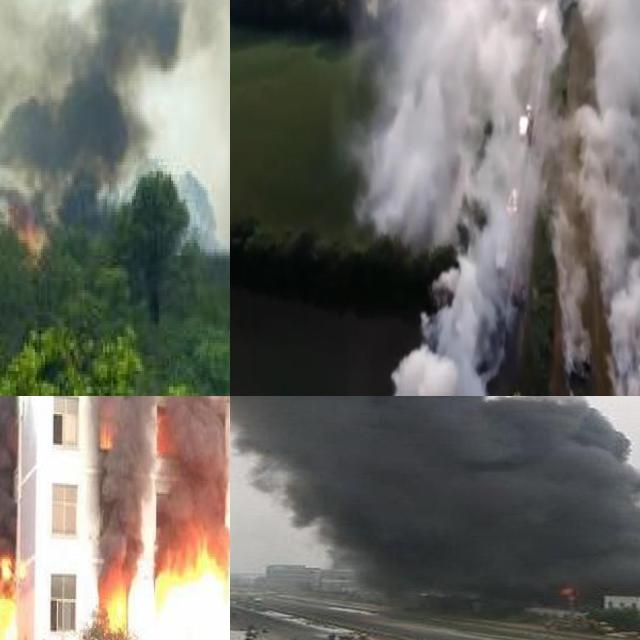fire: (130, 528, 230, 640), (0, 544, 22, 640), (102, 561, 128, 635), (8, 202, 45, 252), (98, 419, 115, 448), (561, 586, 583, 602)
smoke: (347, 0, 640, 396), (230, 396, 640, 609), (0, 0, 230, 215), (97, 396, 149, 570), (164, 396, 223, 535)
